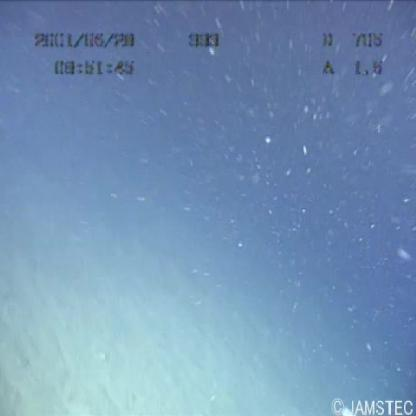Rác: (339, 402, 360, 413)
